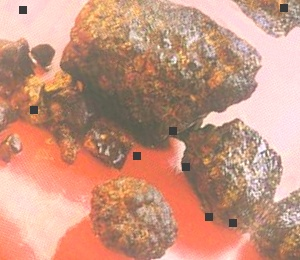halobolite: (36, 1, 279, 179), (190, 123, 285, 216), (92, 183, 170, 258), (230, 187, 300, 258), (49, 95, 122, 161), (1, 41, 59, 89), (1, 96, 29, 133)
